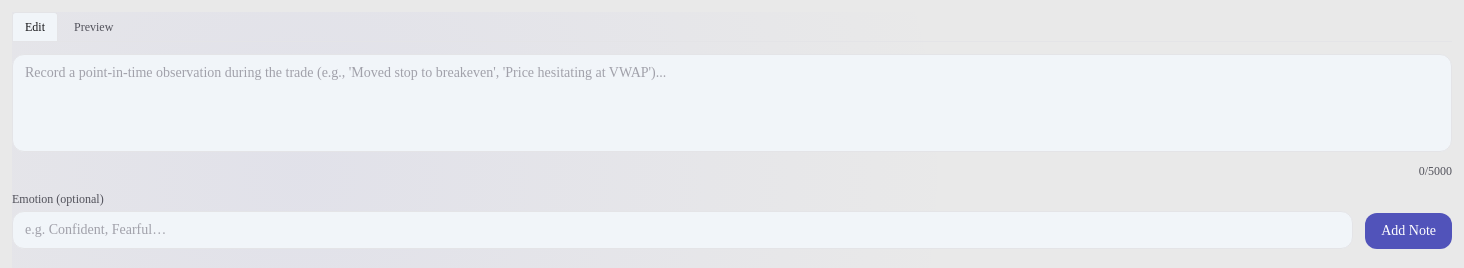
NoteForm › shows error message when submitting empty content
Click the button "Add Note".
click(1409, 231)  # box [1365,213,1452,249]
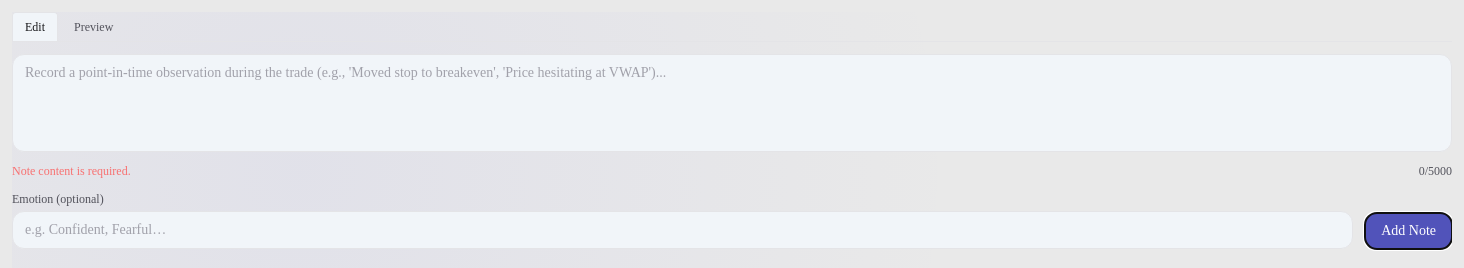
Result: the text "Note content is required." is shown at [12,163,131,179]
